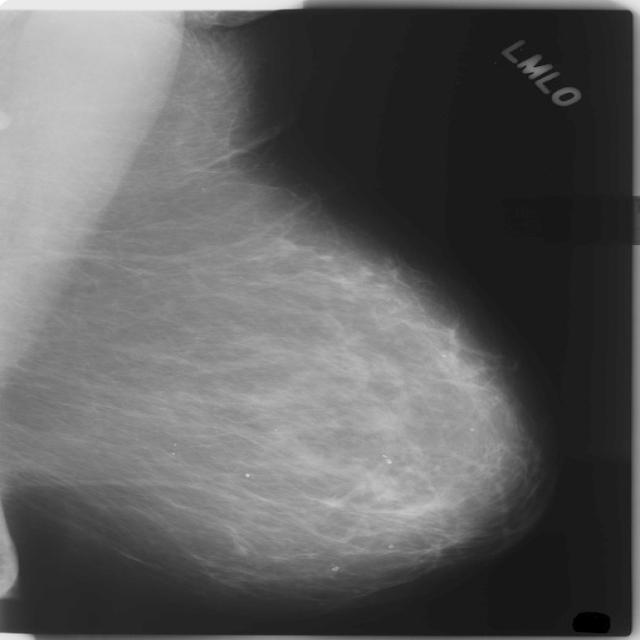tumour: (317, 495, 344, 511)
